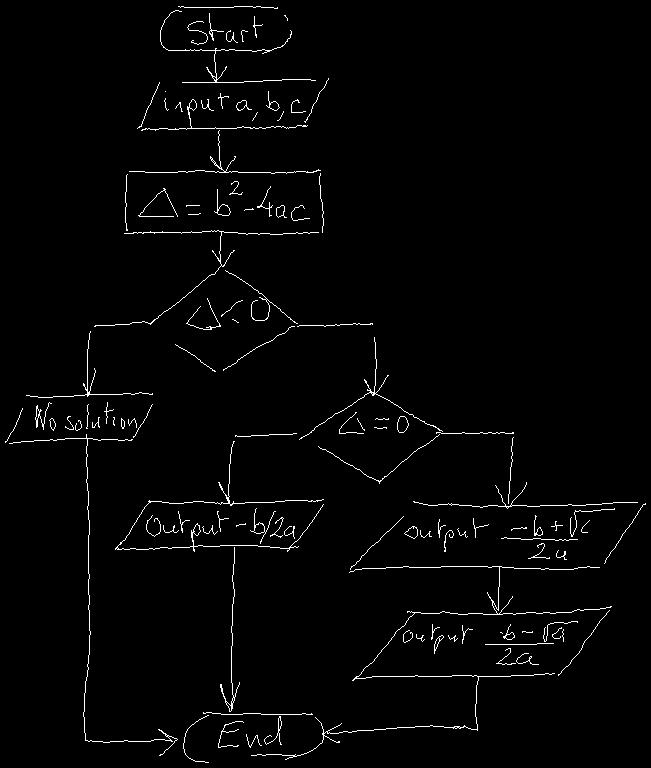arrow: (83, 434, 177, 755), (322, 676, 480, 742), (436, 432, 526, 508), (297, 323, 388, 395), (218, 433, 296, 505), (83, 321, 151, 396), (220, 547, 239, 711), (487, 567, 512, 614), (210, 130, 235, 172), (212, 231, 234, 266), (206, 48, 226, 81)
data: (349, 501, 645, 572), (352, 606, 611, 680), (115, 499, 323, 551), (137, 78, 328, 130), (5, 392, 152, 443)
decision: (150, 266, 297, 371), (299, 389, 442, 483)
process: (124, 169, 323, 234)
terminator: (183, 712, 323, 762), (160, 6, 291, 53)
text: (404, 508, 614, 559), (403, 621, 577, 664), (138, 181, 309, 220), (146, 508, 294, 551), (164, 91, 305, 128), (35, 402, 136, 430), (186, 297, 269, 329), (187, 13, 262, 44), (218, 716, 281, 747), (339, 412, 408, 433)
